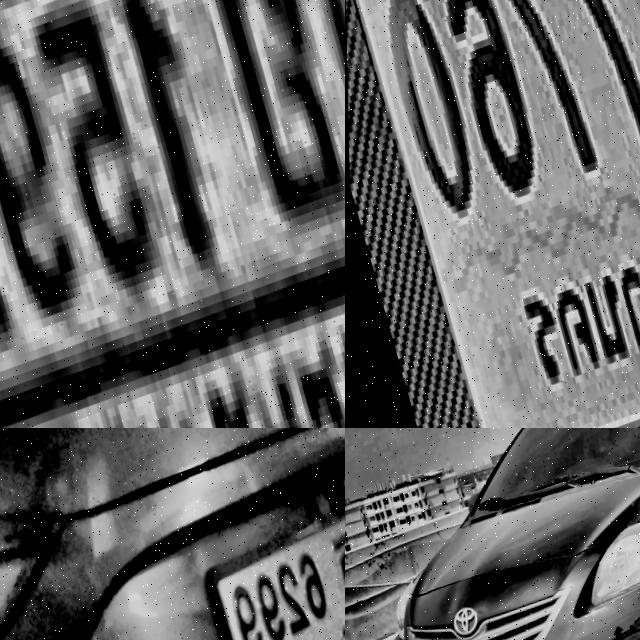license-plate: (0, 0, 345, 428), (345, 0, 640, 428), (216, 527, 345, 640)
